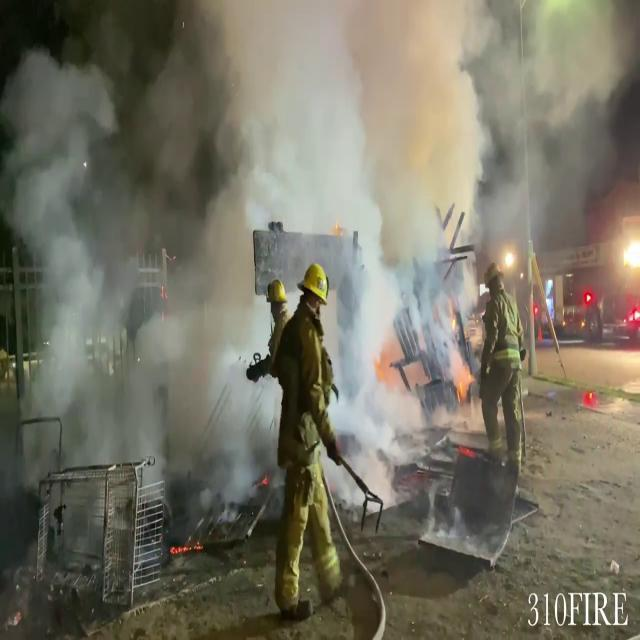Smoke: (1, 1, 513, 550), (446, 0, 640, 252)
